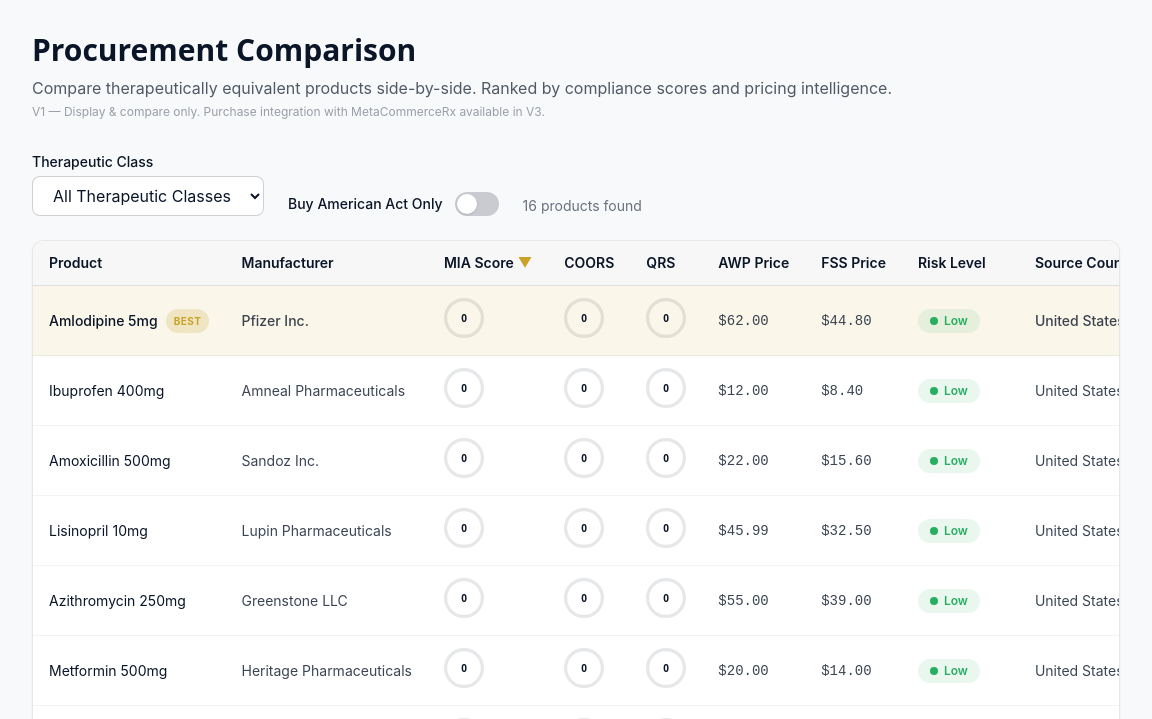
Scenario: Procurement › therapeutic class filtering › filters to only cardiovascular products
Select "Cardiovascular" in the dropdown with test id "class-filter" at (148, 196), box x1=32 y1=176 x2=264 y2=216
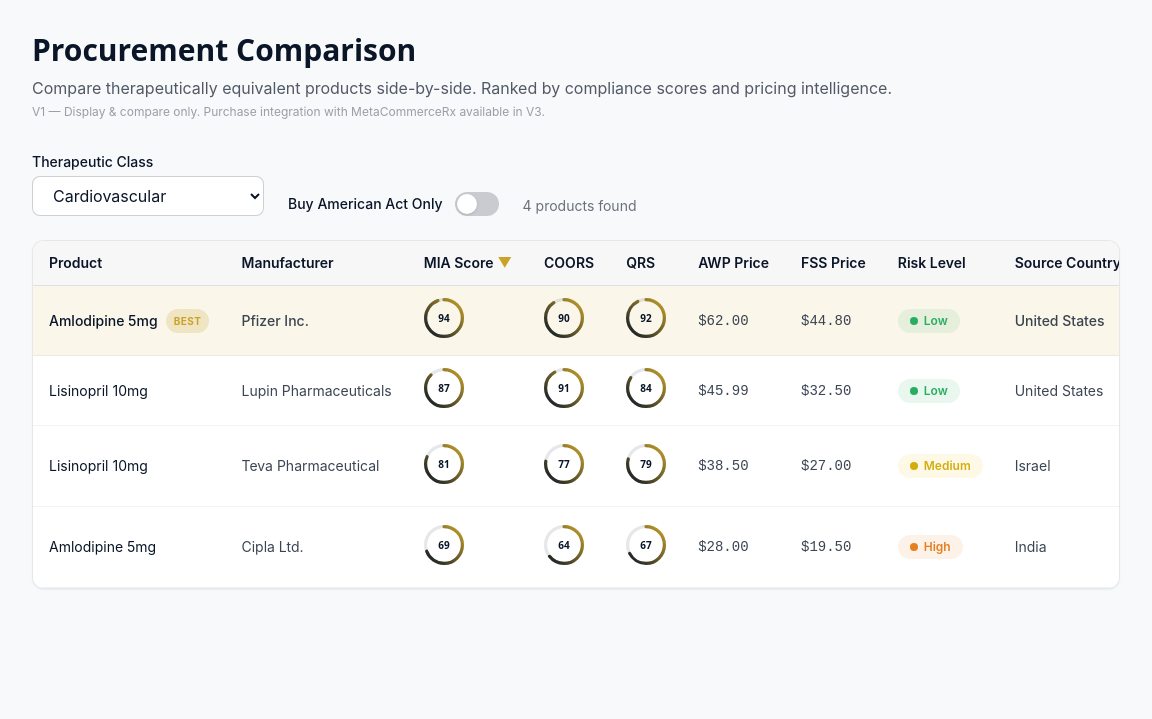
Expected: the row with test id "product-row-proc-1" is shown, x1=33 y1=356 x2=1120 y2=426
Expected: the text "4 products found" is shown, x1=523 y1=196 x2=636 y2=216
